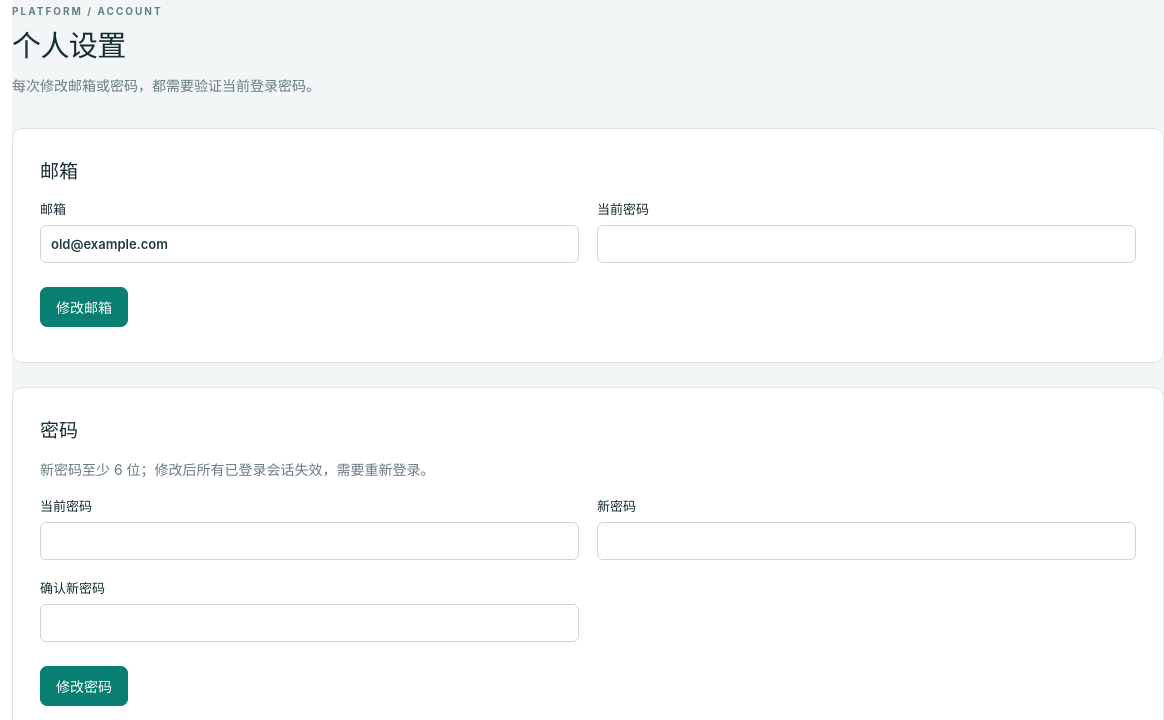
sends current password and keeps email on verification failure
Replace the text in the field labelled "邮箱" with "new@example.com" at (310, 244), box top-left (40, 225), bottom-right (579, 263)
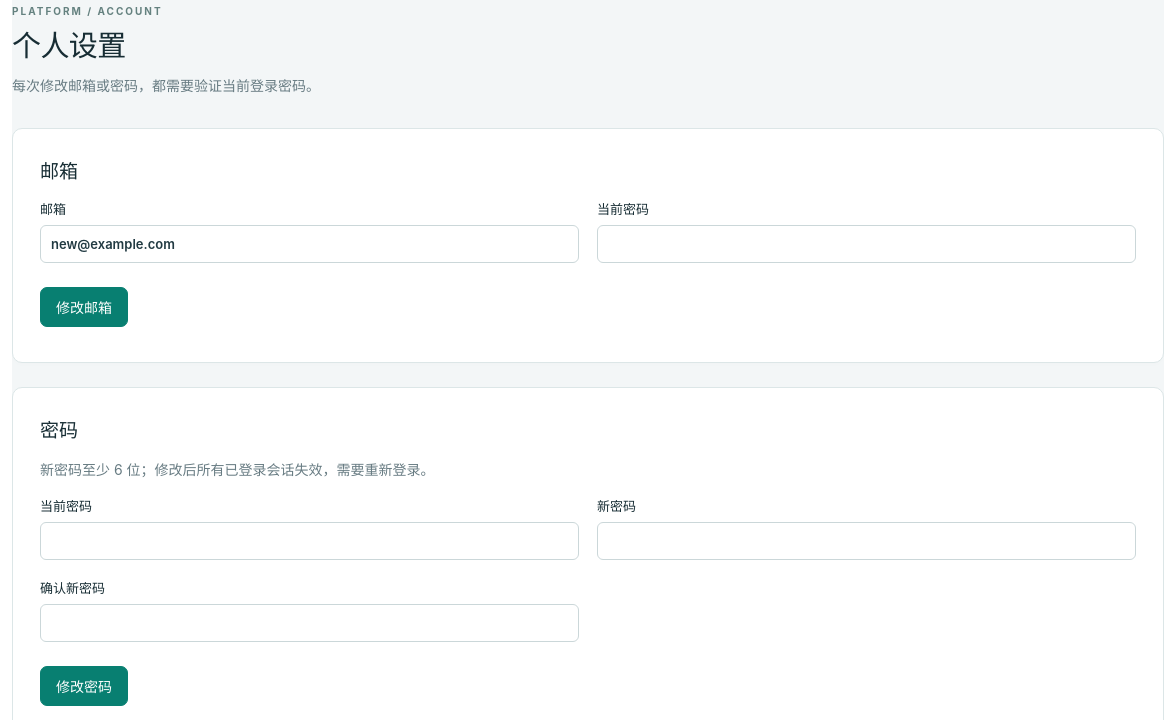
Type "wrong" into the password field named "修改邮箱的当前密码" at (866, 244), box top-left (597, 225), bottom-right (1136, 263)
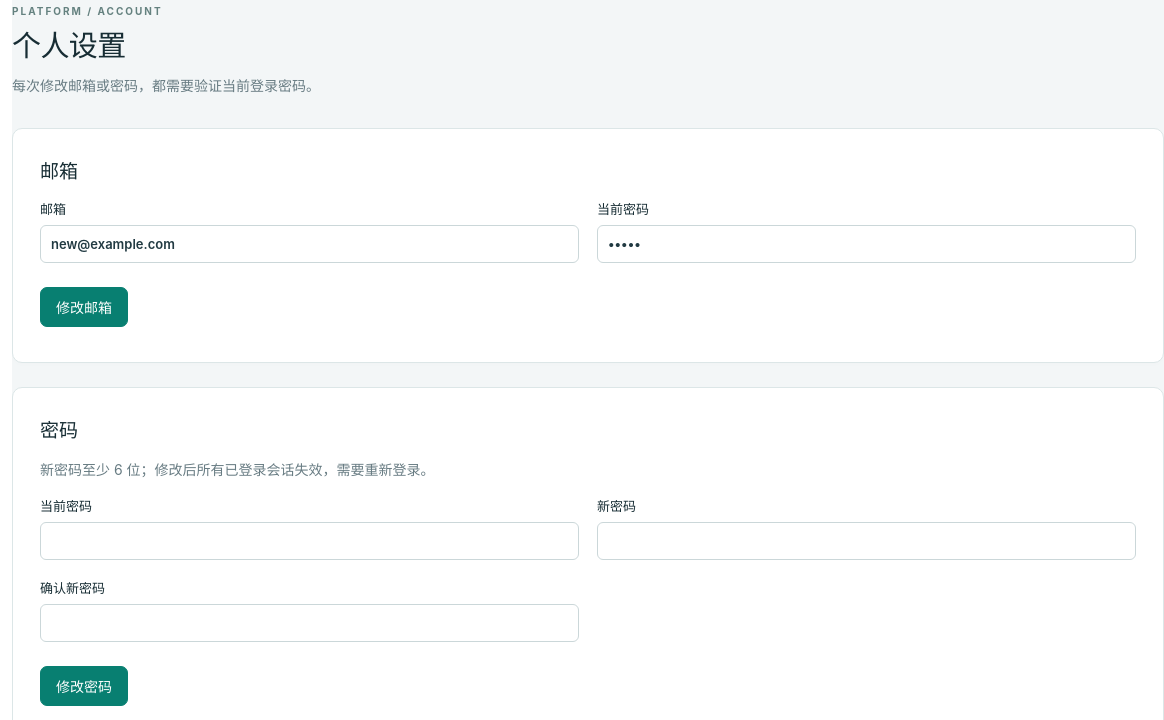
Click the button "修改邮箱" at (84, 307), box top-left (40, 287), bottom-right (128, 327)
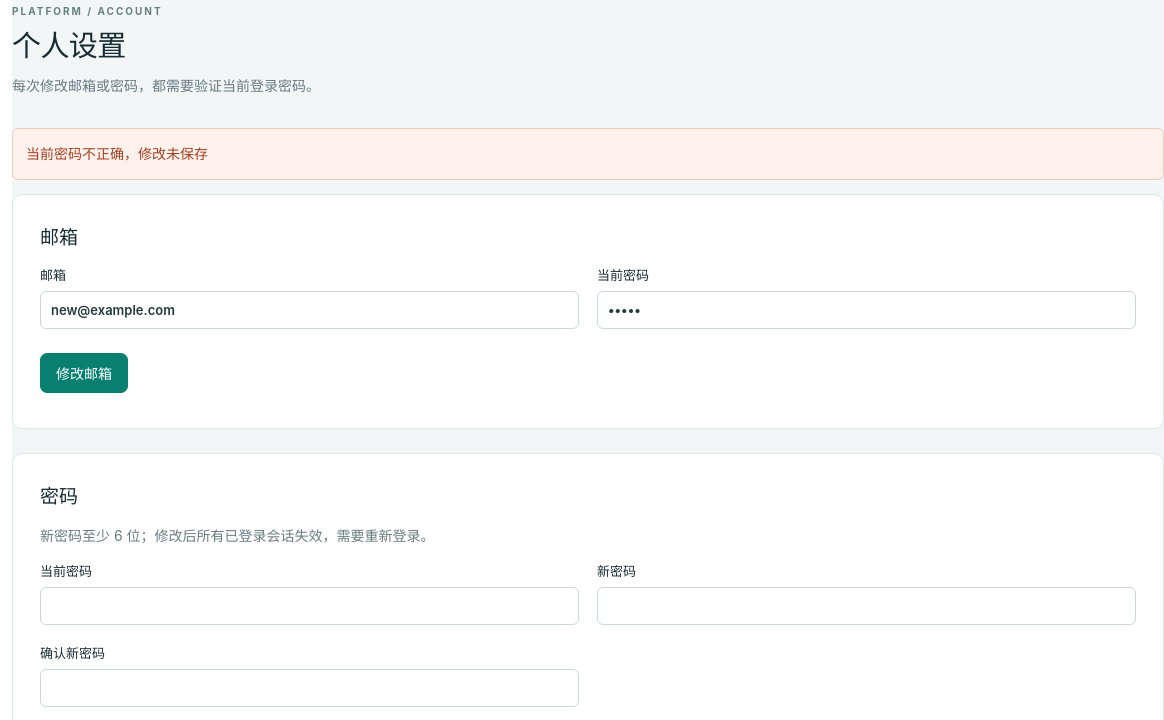
Now the message "当前密码不正确，修改未保存" is shown, box top-left (12, 128), bottom-right (1163, 180)
